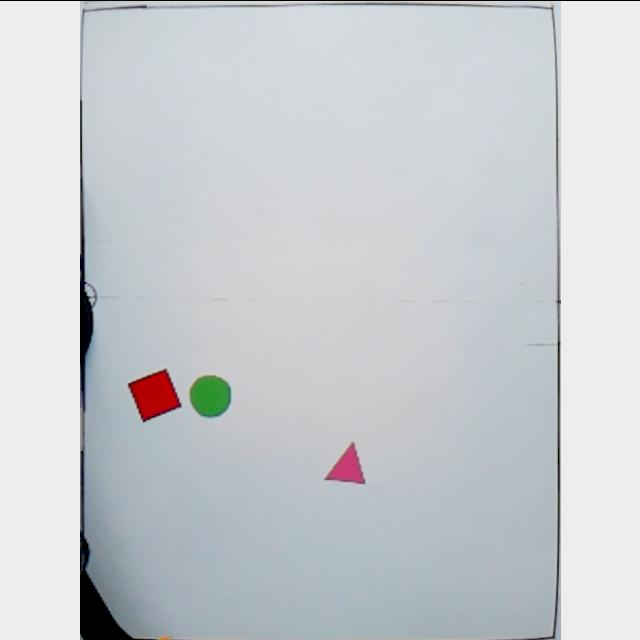greenCircle: (187, 374, 231, 420)
pinkTriangle: (322, 440, 366, 486)
redSquare: (126, 366, 182, 422)
